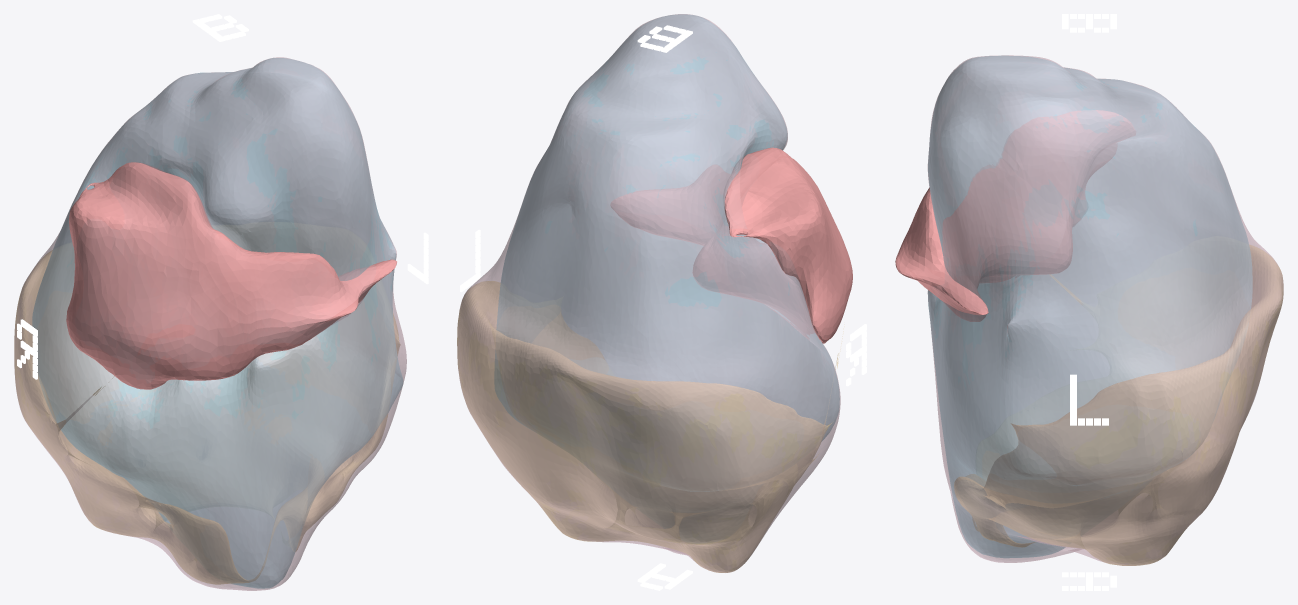
3 renders of one model, left to right at view 1: azimuth 30°, elevation 25°; view 2: azimuth 150°, elevation 25°; view 3: azimuth 270°, elevation 25°, orthographic. The views are drawn at different scales.
Visible parts, largest first — view 1: prostate_gland, transition_zone, lesion_01, peripheral_zone, pv_ar_marker_B, pv_ar_marker_R; view 2: prostate_gland, transition_zone, peripheral_zone, lesion_01, pv_ar_marker_B, pv_ar_marker_R, pv_ar_marker_A; view 3: prostate_gland, transition_zone, peripheral_zone, lesion_01, pv_ar_marker_B, pv_ar_marker_A, pv_ar_marker_L.
Boxes of the visible parts, <box> form: prostate_gland: <box>14,57,406,590</box>; transition_zone: <box>32,58,402,588</box>; lesion_01: <box>66,162,396,389</box>; peripheral_zone: <box>14,250,400,584</box>; pv_ar_marker_B: <box>192,14,248,41</box>; pv_ar_marker_R: <box>17,319,37,379</box>; prostate_gland: <box>457,14,840,572</box>; transition_zone: <box>494,14,839,491</box>; peripheral_zone: <box>457,281,843,572</box>; lesion_01: <box>610,147,852,343</box>; pv_ar_marker_B: <box>637,25,692,52</box>; pv_ar_marker_R: <box>846,324,866,386</box>; pv_ar_marker_A: <box>637,563,692,590</box>; prostate_gland: <box>927,55,1283,565</box>; transition_zone: <box>928,56,1252,557</box>; peripheral_zone: <box>954,244,1283,565</box>; lesion_01: <box>895,110,1135,321</box>; pv_ar_marker_B: <box>1062,14,1116,32</box>; pv_ar_marker_A: <box>1062,572,1116,590</box>; pv_ar_marker_L: <box>1070,374,1108,425</box>.
Bounding box in the file's own units: 0.0518 × 0.0691 × 0.0434.
